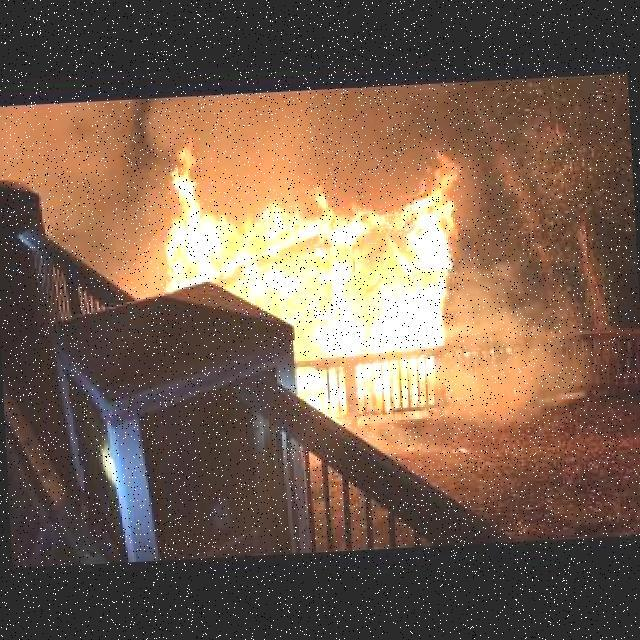Fire: (157, 126, 487, 414)
